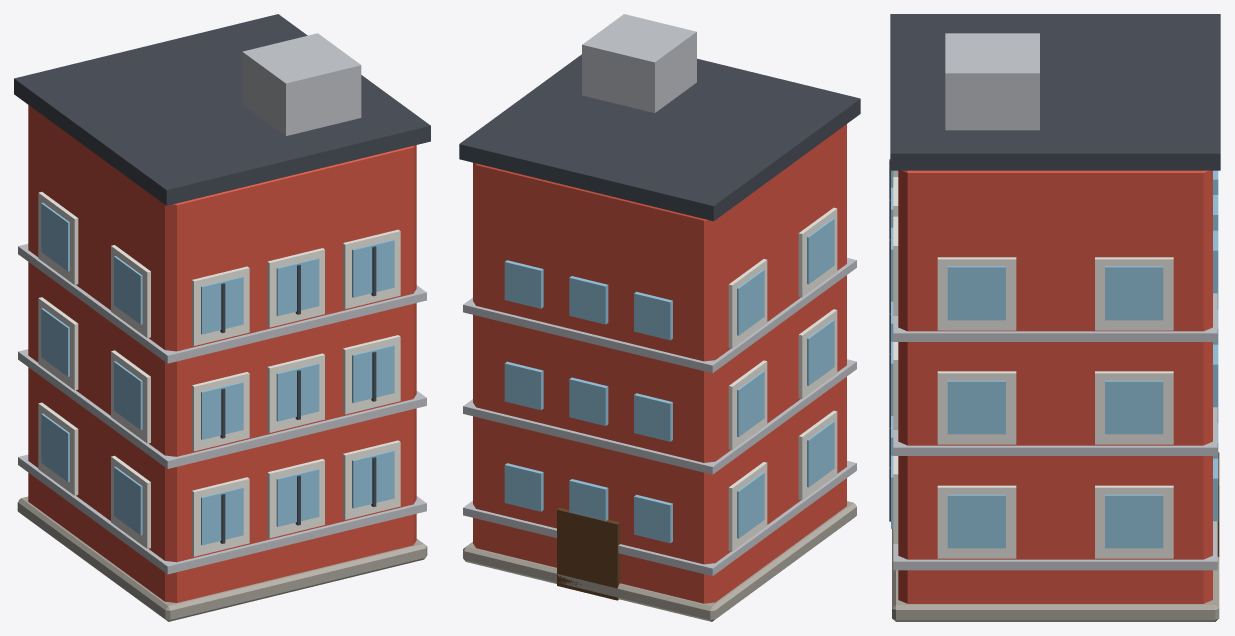
The model's file is apartment.glb.
3 renders of one model, left to right at view 1: azimuth 30°, elevation 25°; view 2: azimuth 150°, elevation 25°; view 3: azimuth 270°, elevation 25°, orthographic. The views are drawn at different scales.
Visible parts, largest first — view 1: apartment; view 2: apartment; view 3: apartment.
Part boxes in pixels (x1,y1,x2,y2): apartment: (14, 14, 430, 621); apartment: (459, 14, 860, 621); apartment: (889, 14, 1220, 621).
Bounding box in the file's own units: 2.1 × 3.7 × 2.11.
Materials: 1 (1 with a texture image).
